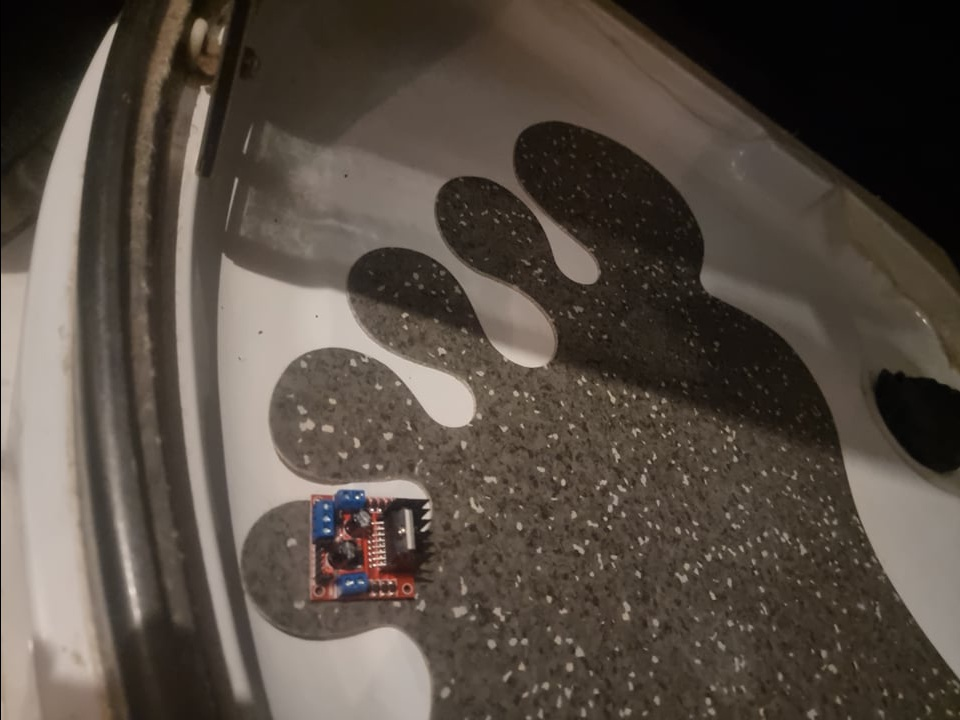MOTOR: (308, 486, 428, 606)
